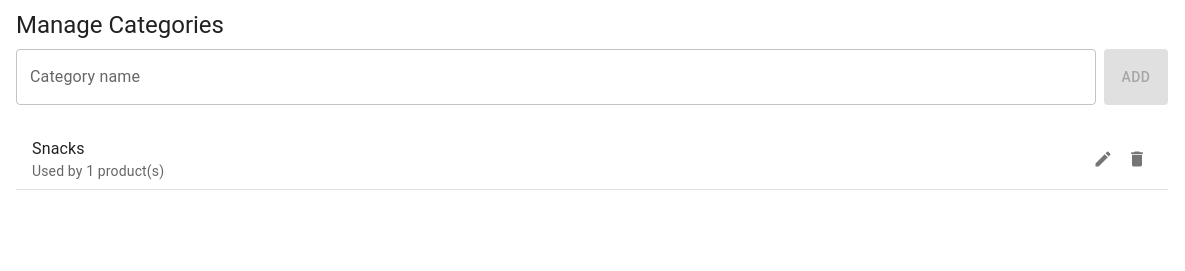
it: ManageCategoriesScreen deletion safeguards › updates a category and cascades the change to products
Click the button named "edit snacks" at (1103, 159), box [1088,144,1118,174]
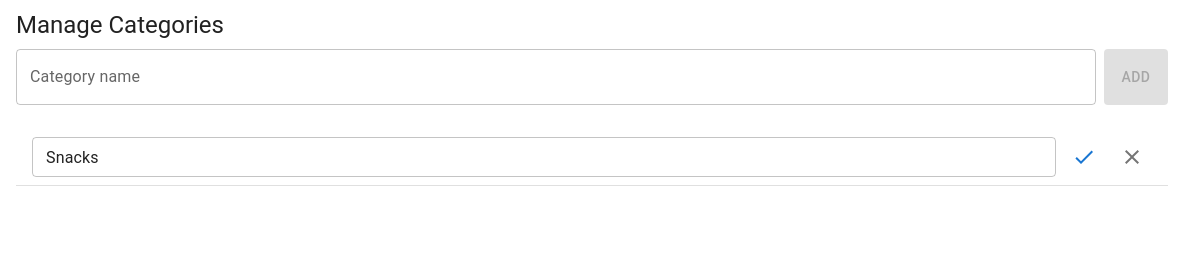
Replace the text in the field showing "snacks" with "Treats" at (544, 157), box [32,137,1056,177]
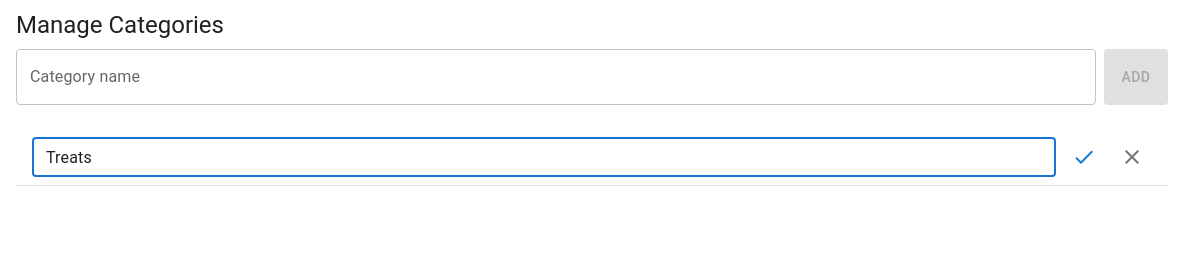
Click the button named "save category" at (1084, 157), box [1064,137,1104,177]
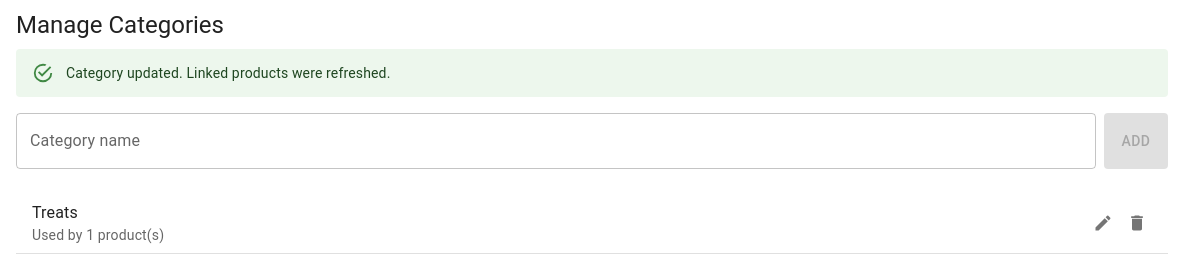
Expected: the text "Category updated. Linked products were refreshed." is shown, [66,65,390,81]
